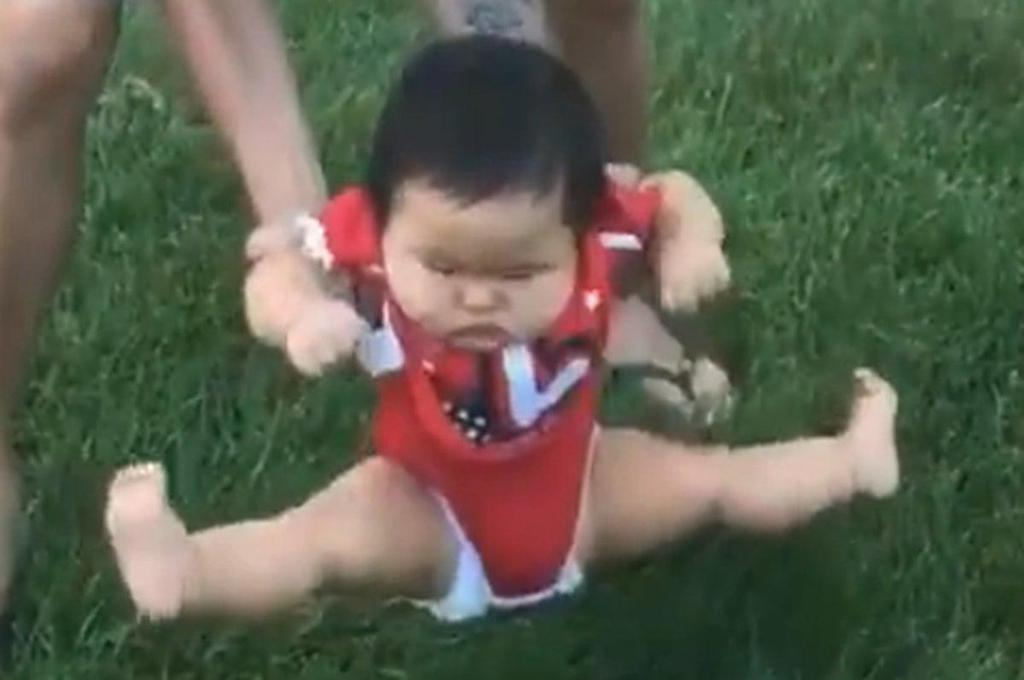child: (107, 40, 925, 641)
